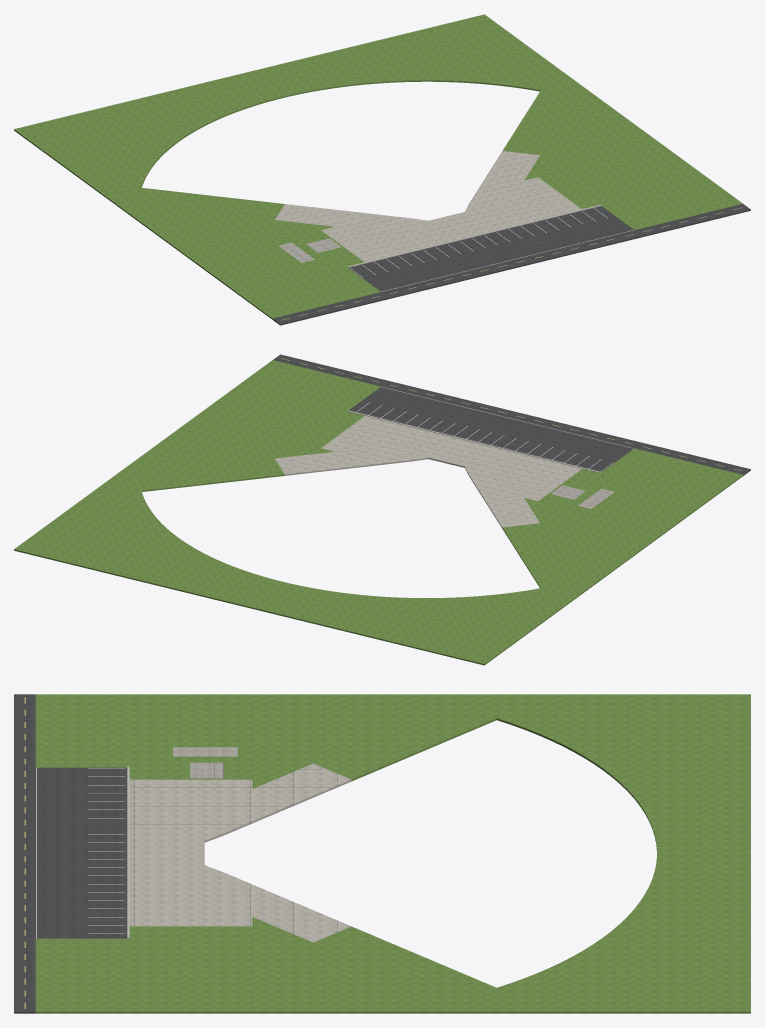
The model's file is site.glb.
3 renders of one model, top to bottom at view 1: azimuth 30°, elevation 25°; view 2: azimuth 150°, elevation 25°; view 3: azimuth 270°, elevation 25°, orthographic. The views are drawn at different scales.
Visible parts, largest first — view 1: site_grass_o, site_asphalt, site_concrete, site_conc_s, site_line_w, site_curb; view 2: site_grass_o, site_asphalt, site_concrete, site_conc_s, site_line_w; view 3: site_grass_o, site_asphalt, site_concrete, site_conc_s, site_line_w.
Part boxes in pixels (x1=…): site_grass_o: x1=14, y1=14, x2=742, y2=319; site_asphalt: x1=272, y1=204, x2=750, y2=325; site_concrete: x1=275, y1=151, x2=581, y2=261; site_conc_s: x1=278, y1=238, x2=340, y2=262; site_line_w: x1=350, y1=208, x2=633, y2=291; site_curb: x1=347, y1=205, x2=601, y2=267; site_grass_o: x1=14, y1=360, x2=742, y2=665; site_asphalt: x1=273, y1=354, x2=750, y2=475; site_concrete: x1=275, y1=416, x2=581, y2=528; site_conc_s: x1=551, y1=485, x2=614, y2=508; site_line_w: x1=356, y1=387, x2=633, y2=471; site_grass_o: x1=35, y1=694, x2=750, y2=1013; site_asphalt: x1=14, y1=694, x2=127, y2=1013; site_concrete: x1=129, y1=763, x2=351, y2=942; site_conc_s: x1=173, y1=747, x2=237, y2=778; site_line_w: x1=36, y1=767, x2=124, y2=938.
Bounding box in the file's own units: 104 × 0.42 × 102.
8 materials, 5 textured.
